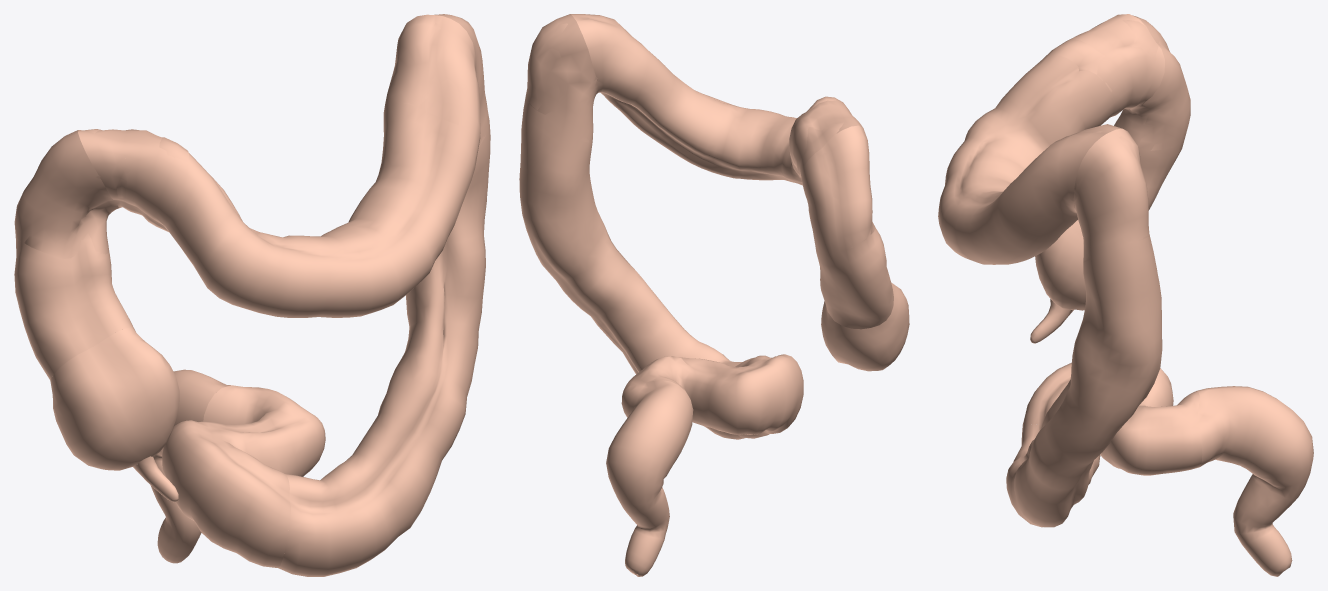
Rendered from hra-large-intestine-female-v1.glb.
3 views of the same model, side by side, from view 1: azimuth 30°, elevation 25°; view 2: azimuth 150°, elevation 25°; view 3: azimuth 270°, elevation 25° (orthographic). The views are drawn at different scales.
Visible parts, largest first — view 1: VH_F_transverse_colon, VH_F_descending_colon, VH_F_sigmoid_colon, VH_F_ascending_colon, VH_F_caecum, VH_F_rectum, VH_F_hepatic_flexure_of_colon, VH_F_splenic_flexure_of_colon, VH_F_vermiform_appendix; view 2: VH_F_descending_colon, VH_F_transverse_colon, VH_F_ascending_colon, VH_F_rectum, VH_F_sigmoid_colon, VH_F_caecum, VH_F_hepatic_flexure_of_colon, VH_F_splenic_flexure_of_colon; view 3: VH_F_descending_colon, VH_F_transverse_colon, VH_F_rectum, VH_F_sigmoid_colon, VH_F_ascending_colon, VH_F_caecum, VH_F_hepatic_flexure_of_colon, VH_F_vermiform_appendix, VH_F_splenic_flexure_of_colon.
Part boxes in pixels (x1,y1,x2,y2): VH_F_transverse_colon: [78, 14, 480, 317]; VH_F_descending_colon: [278, 14, 490, 576]; VH_F_sigmoid_colon: [162, 385, 325, 567]; VH_F_ascending_colon: [14, 130, 135, 379]; VH_F_caecum: [50, 327, 179, 470]; VH_F_rectum: [150, 369, 230, 563]; VH_F_hepatic_flexure_of_colon: [16, 129, 188, 258]; VH_F_splenic_flexure_of_colon: [385, 14, 485, 155]; VH_F_vermiform_appendix: [133, 456, 178, 502]; VH_F_descending_colon: [519, 14, 744, 439]; VH_F_transverse_colon: [570, 14, 863, 185]; VH_F_ascending_colon: [801, 125, 893, 329]; VH_F_rectum: [606, 380, 693, 576]; VH_F_sigmoid_colon: [622, 354, 803, 438]; VH_F_caecum: [821, 282, 909, 371]; VH_F_hepatic_flexure_of_colon: [789, 96, 875, 255]; VH_F_splenic_flexure_of_colon: [525, 16, 649, 142]; VH_F_descending_colon: [1006, 128, 1162, 527]; VH_F_transverse_colon: [938, 14, 1164, 264]; VH_F_rectum: [1197, 386, 1313, 576]; VH_F_sigmoid_colon: [1022, 362, 1202, 475]; VH_F_ascending_colon: [1114, 15, 1190, 210]; VH_F_caecum: [1035, 220, 1085, 310]; VH_F_hepatic_flexure_of_colon: [1046, 19, 1181, 150]; VH_F_vermiform_appendix: [1030, 299, 1073, 343]; VH_F_splenic_flexure_of_colon: [1013, 130, 1149, 262].
Bounding box in the file's own units: 0.2433 × 0.295 × 0.1934.
